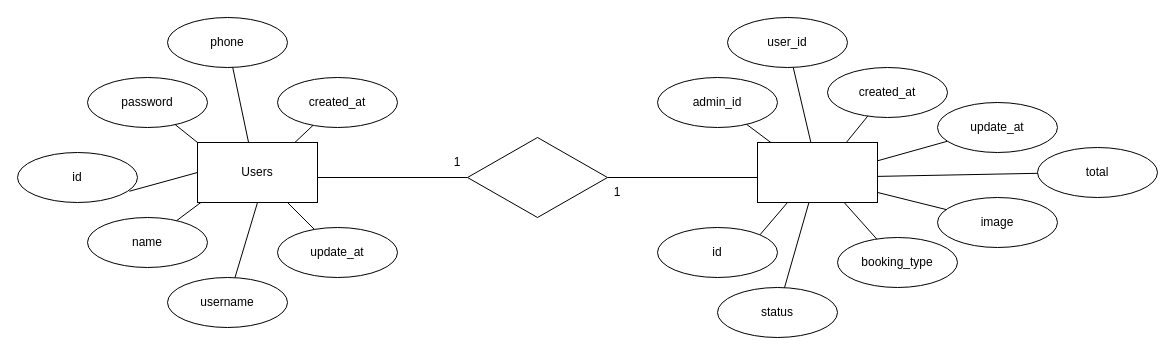
The diagram is 1175 pixels wide and 355 high, and some of its shapes have lost their labels. The shapes that lost their labels are listed below. From the top down, each one's centre as x and y in pixels, then its label:
At point (537, 177): "Kelola".
At point (817, 172): "Transaction".
